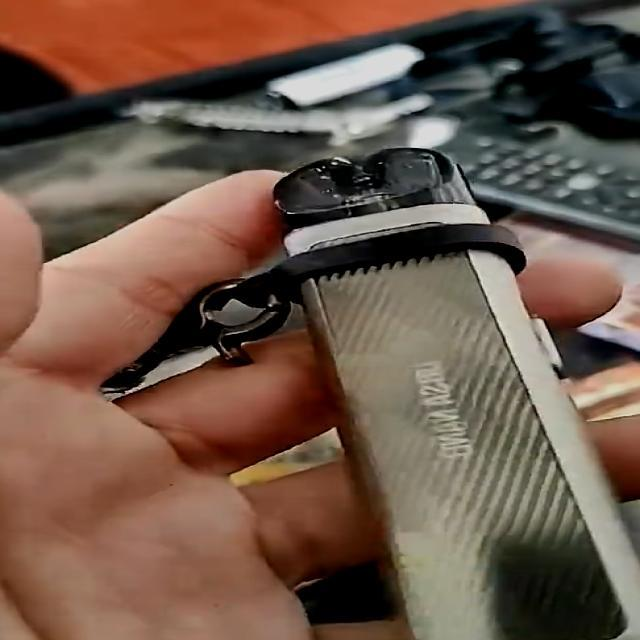Hazard: (269, 146, 640, 639)
